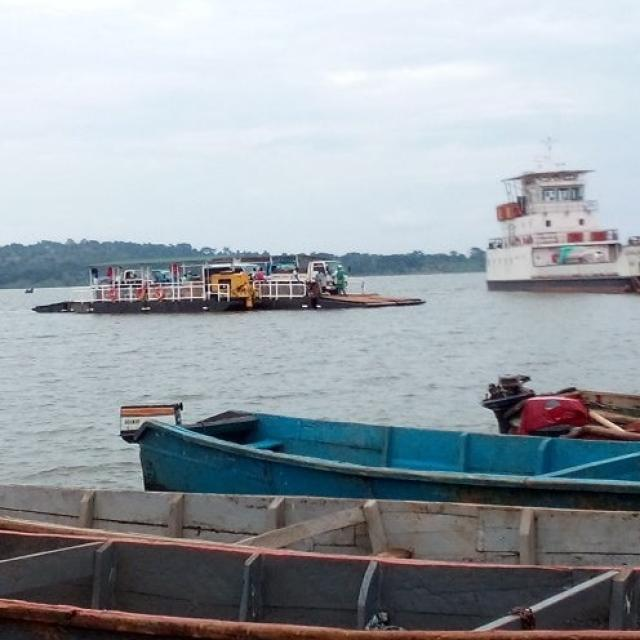fishing boat: (42, 229, 379, 332), (119, 404, 603, 426)
